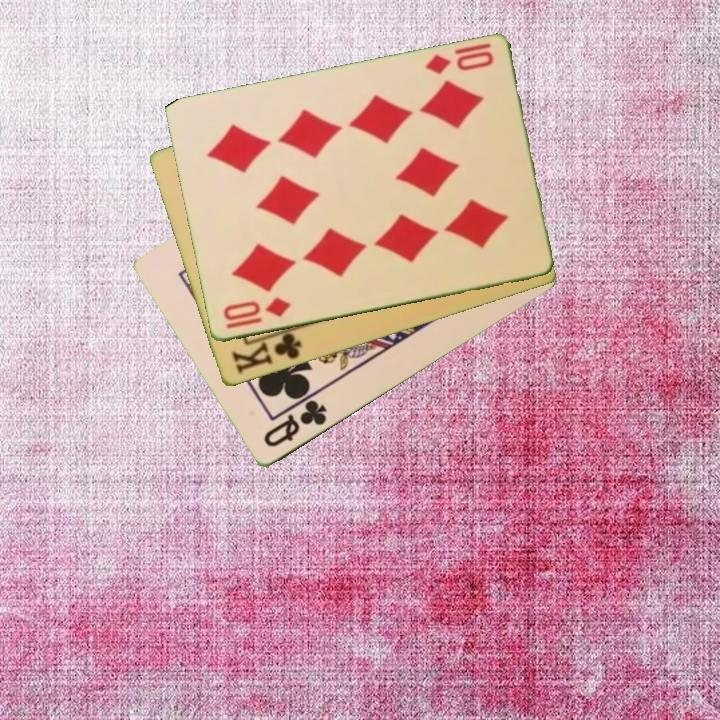10d: (219, 294, 294, 333), (421, 48, 496, 78)
Kc: (228, 325, 305, 379)
Qc: (259, 396, 330, 451)
